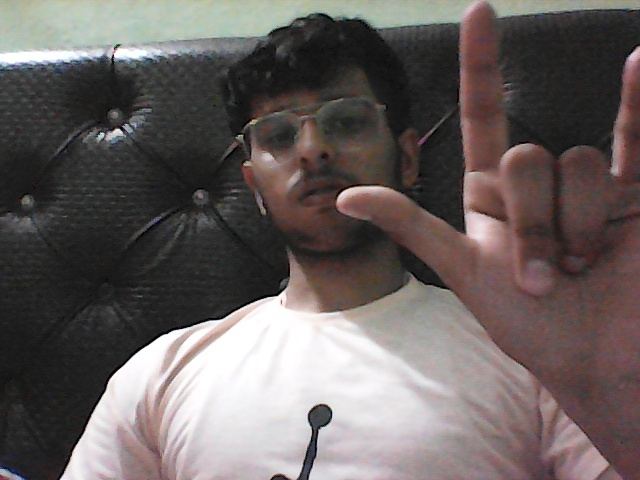iloveyou: (339, 3, 636, 480)
